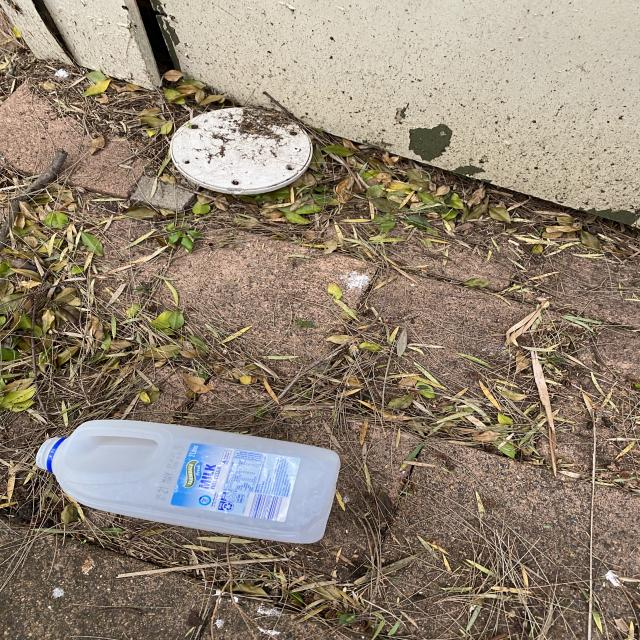bottle: (34, 420, 345, 540)
